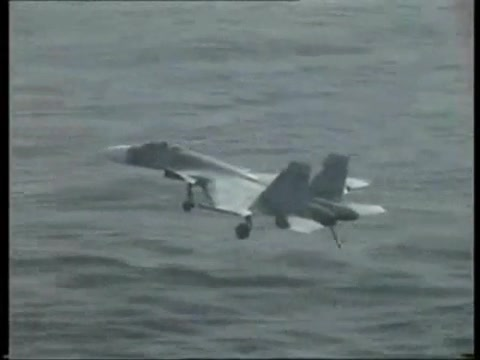aeroplane: (98, 139, 387, 250)
